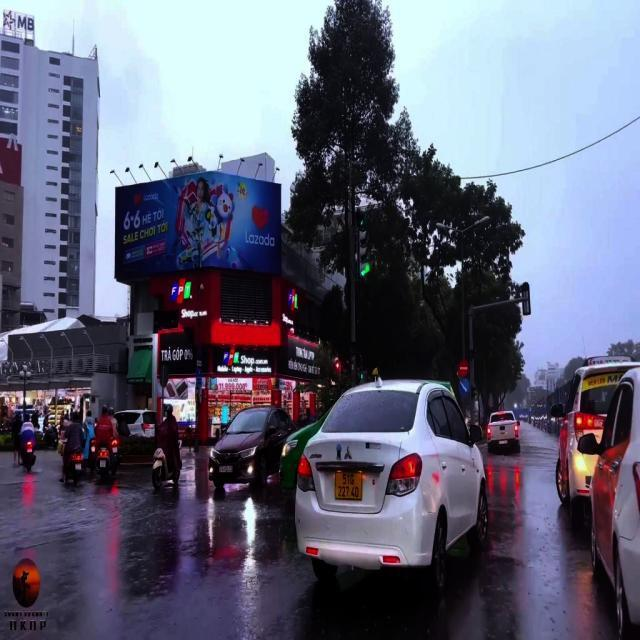102-cam-di-nguoc-chieu: (457, 359, 468, 377)
302a-huong-phai-di-vong-chuong-ngai-vat-1: (458, 378, 470, 395)
